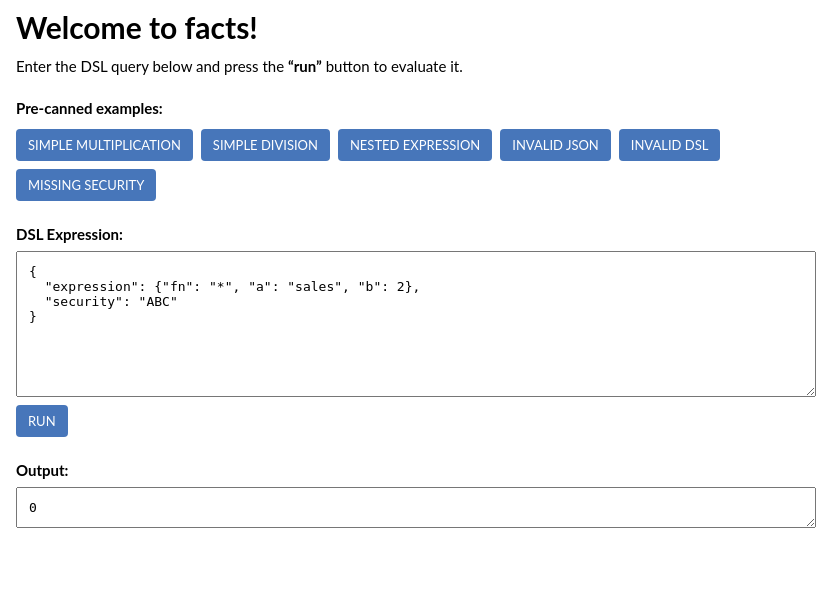
Test: Index page › should evaluate the expression when the "run" button is clicked (negative)
Click the button with test id "run-button".
click(42, 421)  # box [16,405,68,437]
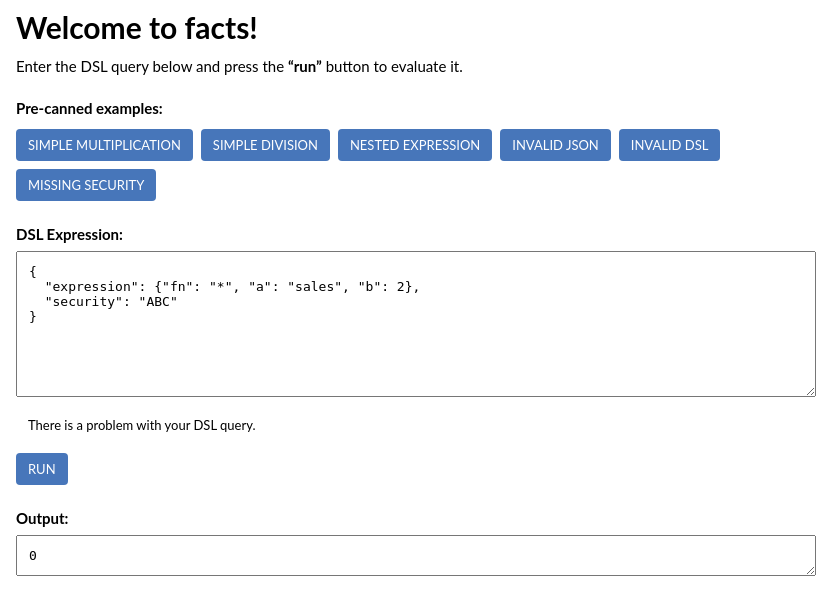
Expected: the text box with test id "dsl-output" holds "0", [16,535,816,576]
Result: the text "There is a problem with your DSL query." is enabled at [16,405,816,445]
